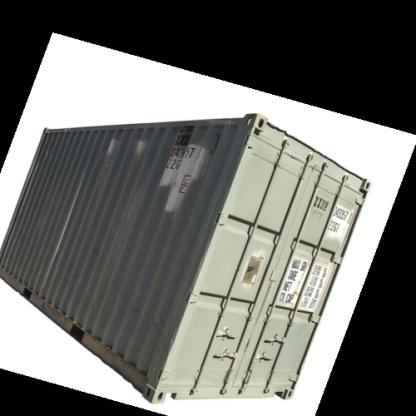Damage: (158, 139, 204, 209), (244, 243, 270, 288), (100, 134, 118, 163), (86, 236, 106, 259), (128, 303, 151, 316)
